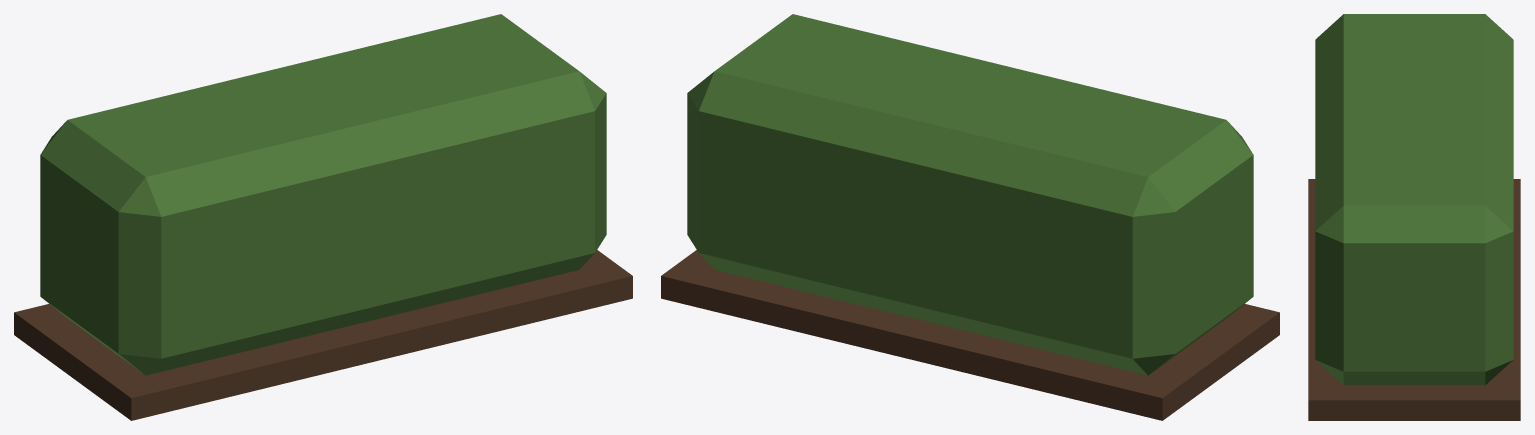
Rendered from SM_K_Hedge.obj.
3 renders of one model, left to right at view 1: azimuth 30°, elevation 25°; view 2: azimuth 150°, elevation 25°; view 3: azimuth 270°, elevation 25°, orthographic. The views are drawn at different scales.
Parts seen in each view (by area): view 1: SM_K_Hedge; view 2: SM_K_Hedge; view 3: SM_K_Hedge.
Boxes of the visible parts, bbox=[...] form: SM_K_Hedge: bbox=[14, 14, 632, 420]; SM_K_Hedge: bbox=[661, 14, 1279, 420]; SM_K_Hedge: bbox=[1308, 14, 1520, 420].
Size of the model in its own units: 1.85 by 0.78 by 0.75.
